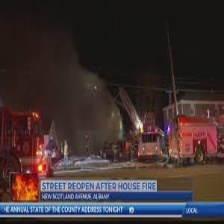smoke: (3, 38, 117, 152)
